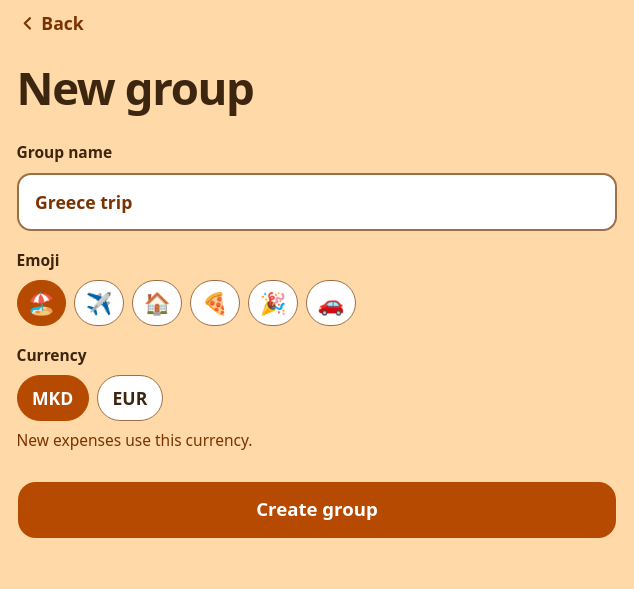
Scenario: NewGroupScreen › shows the name error and sends nothing when the name is empty
What coordinates should you click on to do the following:
click the button "Create group"
I would click on:
 (317, 510)
Its box is [16,481,618,539].
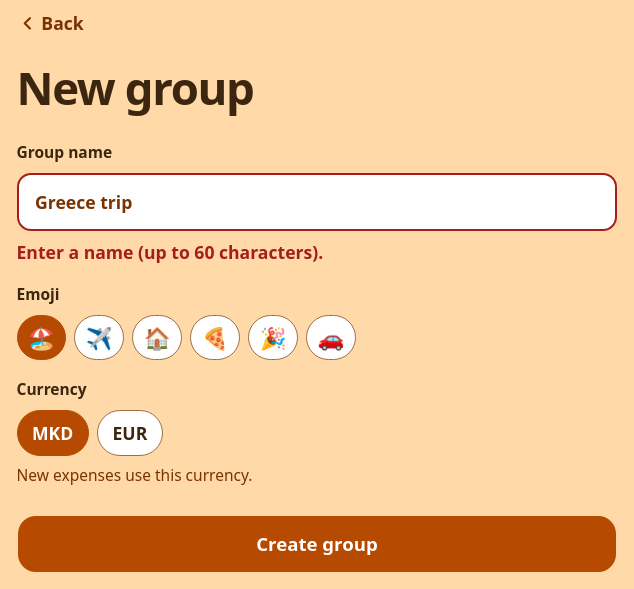
Expected: the text "Enter a name (up to 60 characters)." is shown, [16,240,323,264]
